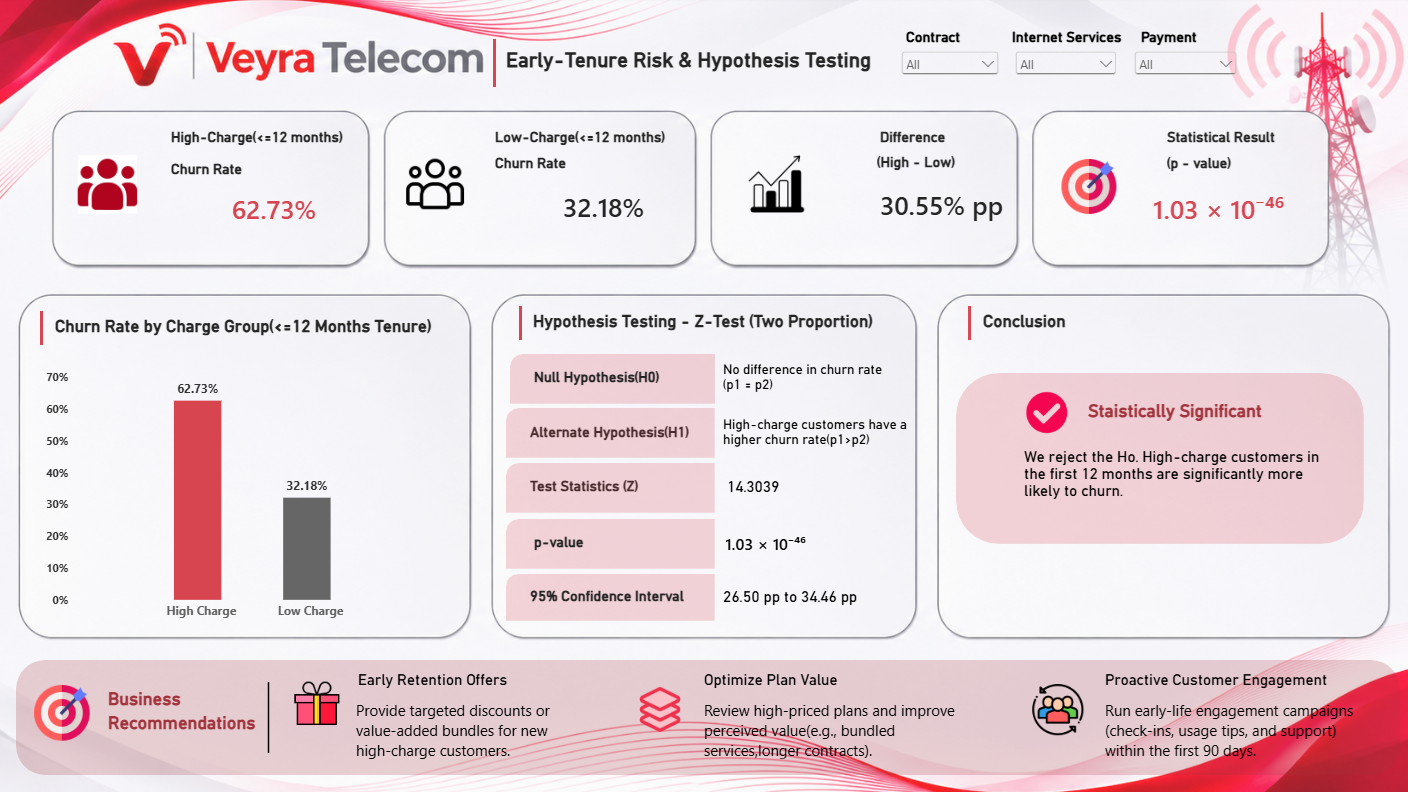

Layout of this report page (visuals, bound fields, positions):
{"tool":"powerbi","page":{"name":"Early-Tenure Risk & Hypothesis Testing","canvas":[1920,1080],"ordinal":2},"visuals":[{"type":"shape","box":[698.9,482.1,276.1,67.3],"z":0},{"type":"cardVisual","fields":{"Data":["Measure Table.High Charge Churn Rate"]},"box":[289.5,245.1,183.1,82.1],"z":1000},{"type":"cardVisual","fields":{"Data":["Measure Table.Low Charge Churn Rate"]},"box":[739.3,241,171,84.8],"z":2000},{"type":"textbox","title":"High-Charge(<=12 months)","box":[242.4,179.1,277.4,31],"z":3000},{"type":"textbox","title":"Churn Rate","box":[242.4,222.2,158.9,31],"z":4000},{"type":"textbox","title":"Low-Charge(<=12 months)","box":[678.7,179.1,277.4,31],"z":5000},{"type":"textbox","title":"Churn Rate","box":[678.7,214.1,161.6,31],"z":6000},{"type":"textbox","title":"Difference","box":[1197.2,179.1,138.7,31],"z":7000},{"type":"textbox","title":"(High - Low)","box":[1193.1,212.8,148.1,31],"z":8000},{"type":"image","box":[111.8,214.1,90.2,79.5],"z":9000},{"type":"image","box":[544,214.1,107.7,78.1],"z":10000},{"type":"image","box":[1008.6,214.1,98.3,78.1],"z":11000},{"type":"cardVisual","fields":{"Data":["Measure Table.Statistical P-Value"]},"box":[1541.9,243.7,223.5,84.8],"z":12000},{"type":"image","box":[1431.5,219.5,94.3,74.1],"z":13000},{"type":"textbox","title":"Statistical Result","box":[1583.6,179.1,171,31],"z":14000},{"type":"textbox","title":"(p - value)","box":[1583.6,214.1,148.1,31],"z":15000},{"type":"clusteredColumnChart","fields":{"Category":["WA_Fn-UseC_-Telco-Customer-Churn.Early Tenure Charge Group"],"Y":["Measure Table.Churn rate"]},"box":[57.9,488.8,557.5,370.3],"z":16000},{"type":"textbox","title":"Churn Rate by Charge Group(<=12 Months Tenure)","box":[86.2,430.9,529.2,39.1],"z":17000},{"type":"shape","box":[33.7,424.2,68.7,45.8],"z":18000},{"type":"textbox","title":"Hypothesis Testing - Z-Test (Two Proportion)","box":[729.9,424.2,529.2,39.1],"z":19000},{"type":"shape","box":[678.7,417.5,68.7,45.8],"z":20000},{"type":"textbox","title":"Null Hypothesis(H0)","box":[731.2,502.3,218.2,25.6],"z":21000},{"type":"textbox","title":"Alternate Hypothesis(H1)","box":[725.8,576.4,218.2,25.6],"z":22000},{"type":"textbox","title":"Test Statistics (Z)","box":[725.8,649.1,218.2,25.6],"z":23000},{"type":"shape","box":[693.5,704.3,281.4,67.3],"z":24000},{"type":"textbox","title":"p-value","box":[731.2,724.5,218.2,25.6],"z":25000},{"type":"shape","box":[693.5,778.4,281.4,63.3],"z":26000},{"type":"shape","box":[693.5,628.9,281.4,67.3],"z":27000},{"type":"shape","box":[693.5,554.8,281.4,67.3],"z":28000},{"type":"textbox","title":"95% Confidence Interval","box":[725.8,797.2,218.2,25.6],"z":29000},{"type":"textbox","title":"No difference in churn rate (p1 = p2)","box":[985.7,491.5,235.7,57.9],"z":30000},{"type":"textbox","title":"High-charge customers have a higher churn rate(p1>p2)","box":[985.7,565.6,254.5,47.1],"z":31000},{"type":"textbox","title":"14.3039","box":[991.1,649.1,134.7,36.4],"z":32000},{"type":"cardVisual","fields":{"Data":["Measure Table.Statistical P-Value"]},"box":[960.1,709.7,167,55.2],"z":33000},{"type":"textbox","title":"26.50 pp to 34.46 pp","box":[985.7,797.2,251.8,36.4],"z":34000},{"type":"textbox","title":"Conclusion","box":[1335.9,424.2,172.4,39.1],"z":35000},{"type":"shape","box":[1283.3,417.5,68.7,45.8],"z":36000},{"type":"shape","box":[1299.5,507.7,549.4,230.3],"z":37000},{"type":"textbox","title":"Staistically Significant","box":[1477.3,545.4,277.4,39.1],"z":38000},{"type":"image","box":[1385.7,531.9,72.7,57.9],"z":39000},{"type":"textbox","title":"We reject the Ho. High-charge customers in the first 12 months are significantly more likely to churn.","box":[1391.1,608.7,418.8,76.8],"z":40000},{"type":"shape","box":[33.7,894.2,1863.7,154.9],"z":41000},{"type":"textbox","title":"Business","box":[157.6,933.2,123.9,39.1],"z":42000},{"type":"textbox","title":"Recommendations","box":[157.6,965.5,216.8,39.1],"z":43000},{"type":"image","box":[57.9,923.8,75.4,83.5],"z":44000},{"type":"shape","box":[346.1,923.8,55.2,95.6],"z":45000},{"type":"textbox","title":"Early Retention Offers","box":[494.2,909,241,29.6],"z":46000},{"type":"textbox","title":"Provide targeted discounts or value-added bundles for new high-charge customers.","box":[491.5,948,325.9,92.9],"z":47000},{"type":"image","box":[405.3,917.1,67.3,71.4],"z":48000},{"type":"textbox","title":"Optimize Plan Value","box":[960.1,909,241,29.6],"z":49000},{"type":"textbox","title":"Proactive Customer Engagement","box":[1500.1,909,334,39.1],"z":50000},{"type":"textbox","title":"Review high-priced plans and improve perceived value(e.g., bundled services,longer contracts).","box":[960.1,948,364.9,79.5],"z":51000},{"type":"textbox","title":"Run early-life engagement campaigns (check-ins, usage tips, and support) within the first 90 days.","box":[1500.1,948,348.8,79.5],"z":52000},{"type":"image","box":[1391.1,926.5,91.6,68.7],"z":53000},{"type":"image","box":[852.4,923.8,97,74.1],"z":54000},{"type":"cardVisual","fields":{"Data":["Measure Table.Churn Rate Difference Display"]},"box":[1181,238.4,203.3,84.8],"z":55000},{"type":"textbox","title":"Early-Tenure Risk & Hypothesis Testing","box":[693.5,70,510.4,36.4],"z":56000},{"type":"shape","box":[643.7,57.9,68.7,64.6],"z":57000},{"type":"slicer","fields":{"Values":["WA_Fn-UseC_-Telco-Customer-Churn.Contract"]},"box":[1221.4,70,140,49.8],"z":58000},{"type":"slicer","fields":{"Values":["WA_Fn-UseC_-Telco-Customer-Churn.InternetService"]},"box":[1374.9,70,145.4,49.8],"z":59000},{"type":"slicer","fields":{"Values":["WA_Fn-UseC_-Telco-Customer-Churn.PaymentMethod"]},"box":[1535.2,70,146.8,49.8],"z":60000},{"type":"textbox","title":"Contract","box":[1232.2,44.4,92.9,26.9],"z":61000},{"type":"textbox","title":"Internet Services","box":[1374.9,44.4,187.2,26.9],"z":62000},{"type":"textbox","title":"Payment","box":[1548.6,44.4,118.5,26.9],"z":63000}]}

Visuals, with their boxes in screenshot pixels (x1, y1, x2, y2), scaled from the page's 1920x1080 canvas onto the 1408x792 screenshot:
shape: [left=513, top=354, right=715, bottom=403]
cardVisual - Measure Table.High Charge Churn Rate: [left=212, top=180, right=347, bottom=240]
cardVisual - Measure Table.Low Charge Churn Rate: [left=542, top=177, right=668, bottom=239]
"High-Charge(<=12 months)" textbox: [left=178, top=131, right=381, bottom=154]
"Churn Rate" textbox: [left=178, top=163, right=294, bottom=186]
"Low-Charge(<=12 months)" textbox: [left=498, top=131, right=701, bottom=154]
"Churn Rate" textbox: [left=498, top=157, right=616, bottom=180]
"Difference" textbox: [left=878, top=131, right=980, bottom=154]
"(High - Low)" textbox: [left=875, top=156, right=984, bottom=179]
image: [left=82, top=157, right=148, bottom=215]
image: [left=399, top=157, right=478, bottom=214]
image: [left=740, top=157, right=812, bottom=214]
cardVisual - Measure Table.Statistical P-Value: [left=1131, top=179, right=1295, bottom=241]
image: [left=1050, top=161, right=1119, bottom=215]
"Statistical Result" textbox: [left=1161, top=131, right=1287, bottom=154]
"(p - value)" textbox: [left=1161, top=157, right=1270, bottom=180]
clusteredColumnChart - WA_Fn-UseC_-Telco-Customer-Churn.Early Tenure Charge Group x Measure Table.Churn rate: [left=42, top=358, right=451, bottom=630]
"Churn Rate by Charge Group(<=12 Months Tenure)" textbox: [left=63, top=316, right=451, bottom=345]
shape: [left=25, top=311, right=75, bottom=345]
"Hypothesis Testing - Z-Test (Two Proportion)" textbox: [left=535, top=311, right=923, bottom=340]
shape: [left=498, top=306, right=548, bottom=340]
"Null Hypothesis(H0)" textbox: [left=536, top=368, right=696, bottom=387]
"Alternate Hypothesis(H1)" textbox: [left=532, top=423, right=692, bottom=441]
"Test Statistics (Z)" textbox: [left=532, top=476, right=692, bottom=495]
shape: [left=509, top=516, right=715, bottom=566]
"p-value" textbox: [left=536, top=531, right=696, bottom=550]
shape: [left=509, top=571, right=715, bottom=617]
shape: [left=509, top=461, right=715, bottom=511]
shape: [left=509, top=407, right=715, bottom=456]
"95% Confidence Interval" textbox: [left=532, top=585, right=692, bottom=603]
"No difference in churn rate (p1 = p2)" textbox: [left=723, top=360, right=896, bottom=403]
"High-charge customers have a higher churn rate(p1>p2)" textbox: [left=723, top=415, right=909, bottom=449]
"14.3039" textbox: [left=727, top=476, right=826, bottom=503]
cardVisual - Measure Table.Statistical P-Value: [left=704, top=520, right=827, bottom=561]
"26.50 pp to 34.46 pp" textbox: [left=723, top=585, right=907, bottom=611]
"Conclusion" textbox: [left=980, top=311, right=1106, bottom=340]
shape: [left=941, top=306, right=991, bottom=340]
shape: [left=953, top=372, right=1356, bottom=541]
"Staistically Significant" textbox: [left=1083, top=400, right=1287, bottom=429]
image: [left=1016, top=390, right=1069, bottom=433]
"We reject the Ho. High-charge customers in the first 12 months are significantly more likely to churn." textbox: [left=1020, top=446, right=1327, bottom=503]
shape: [left=25, top=656, right=1391, bottom=769]
"Business" textbox: [left=116, top=684, right=206, bottom=713]
"Recommendations" textbox: [left=116, top=708, right=275, bottom=737]
image: [left=42, top=677, right=98, bottom=739]
shape: [left=254, top=677, right=294, bottom=748]
"Early Retention Offers" textbox: [left=362, top=667, right=539, bottom=688]
"Provide targeted discounts or value-added bundles for new high-charge customers." textbox: [left=360, top=695, right=599, bottom=763]
image: [left=297, top=673, right=347, bottom=725]
"Optimize Plan Value" textbox: [left=704, top=667, right=881, bottom=688]
"Proactive Customer Engagement" textbox: [left=1100, top=667, right=1345, bottom=695]
"Review high-priced plans and improve perceived value(e.g., bundled services,longer contracts)." textbox: [left=704, top=695, right=972, bottom=754]
"Run early-life engagement campaigns (check-ins, usage tips, and support) within the first 90 days." textbox: [left=1100, top=695, right=1356, bottom=754]
image: [left=1020, top=679, right=1087, bottom=730]
image: [left=625, top=677, right=696, bottom=732]
cardVisual - Measure Table.Churn Rate Difference Display: [left=866, top=175, right=1015, bottom=237]
"Early-Tenure Risk & Hypothesis Testing" textbox: [left=509, top=51, right=883, bottom=78]
shape: [left=472, top=42, right=522, bottom=90]
slicer - WA_Fn-UseC_-Telco-Customer-Churn.Contract: [left=896, top=51, right=998, bottom=88]
slicer - WA_Fn-UseC_-Telco-Customer-Churn.InternetService: [left=1008, top=51, right=1115, bottom=88]
slicer - WA_Fn-UseC_-Telco-Customer-Churn.PaymentMethod: [left=1126, top=51, right=1233, bottom=88]
"Contract" textbox: [left=904, top=33, right=972, bottom=52]
"Internet Services" textbox: [left=1008, top=33, right=1146, bottom=52]
"Payment" textbox: [left=1136, top=33, right=1223, bottom=52]
